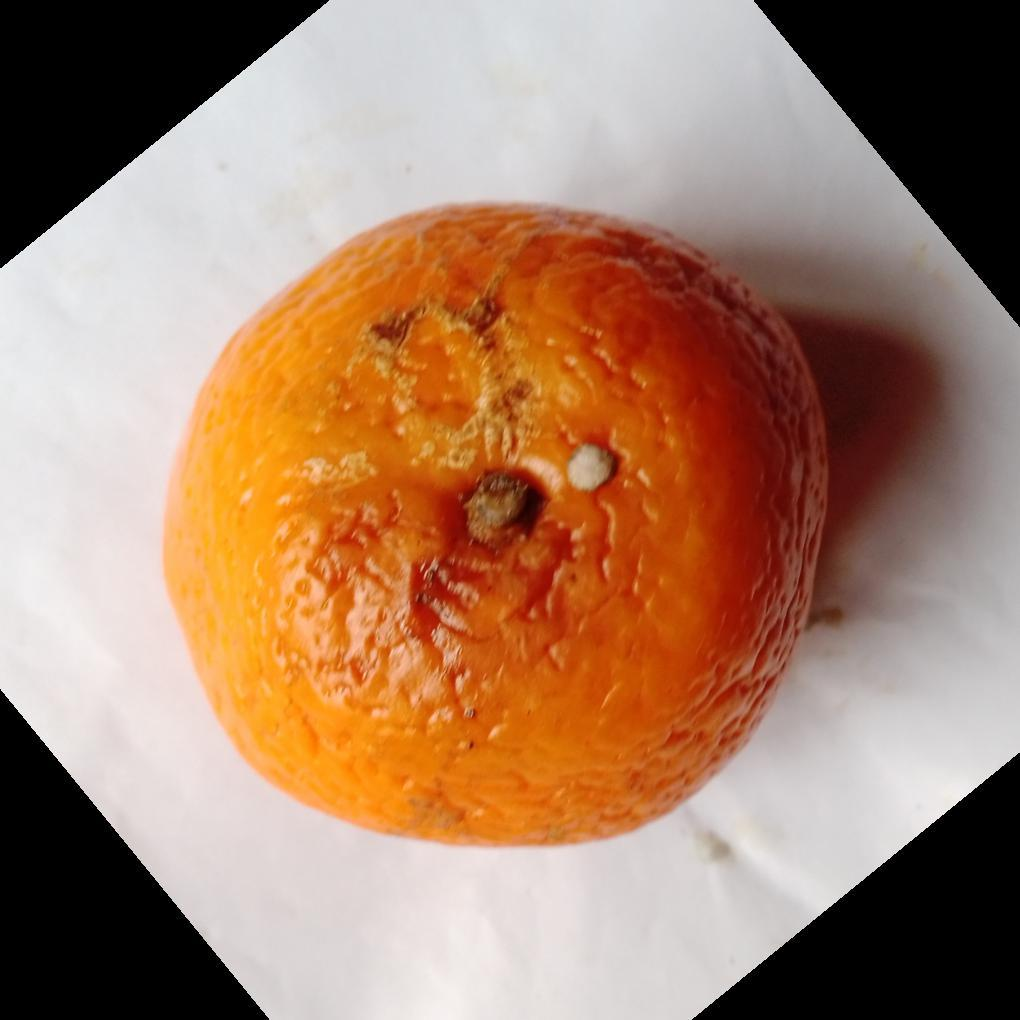FreshOrange: (157, 202, 832, 854)
